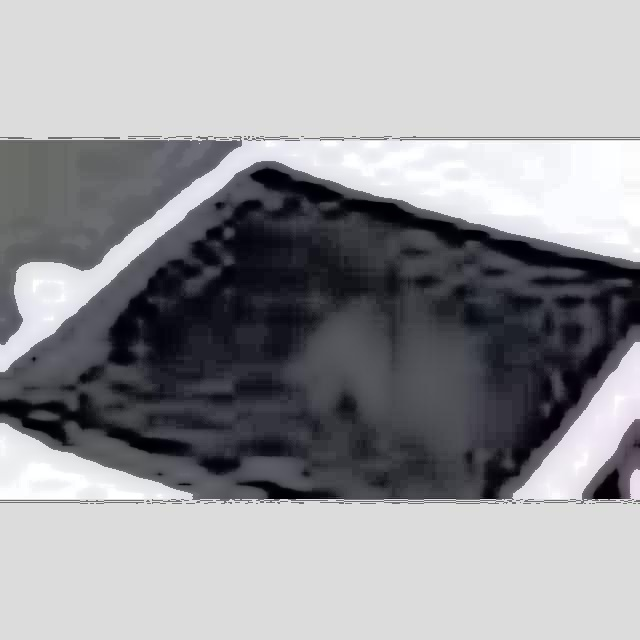pakai: (281, 257, 485, 451)
